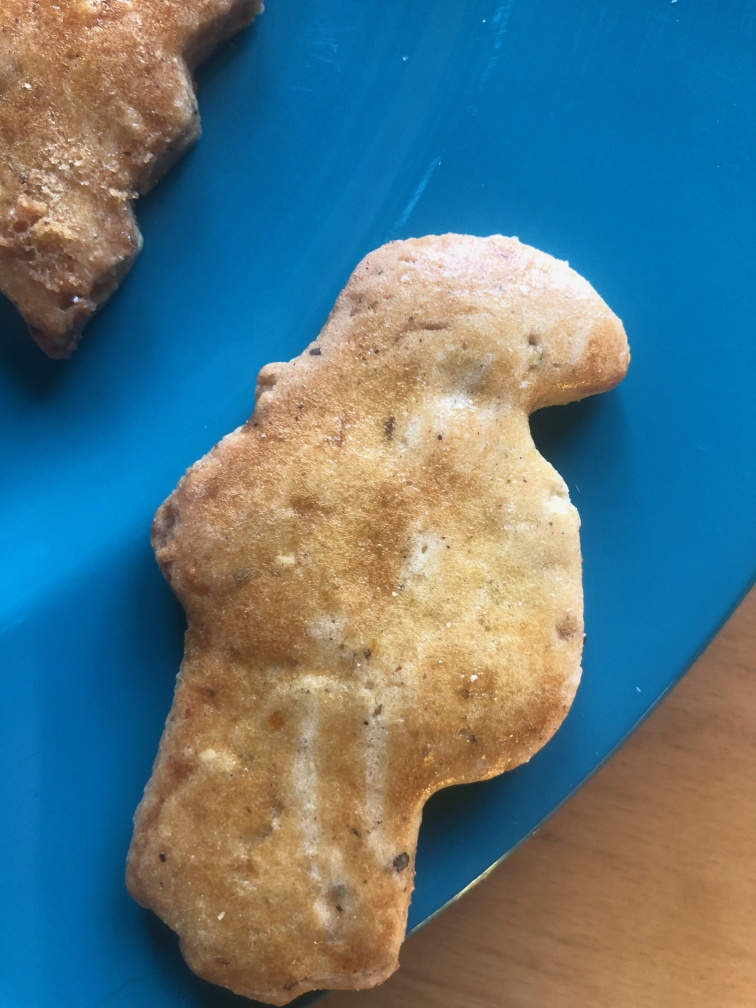santa claus: (117, 229, 638, 1005)
